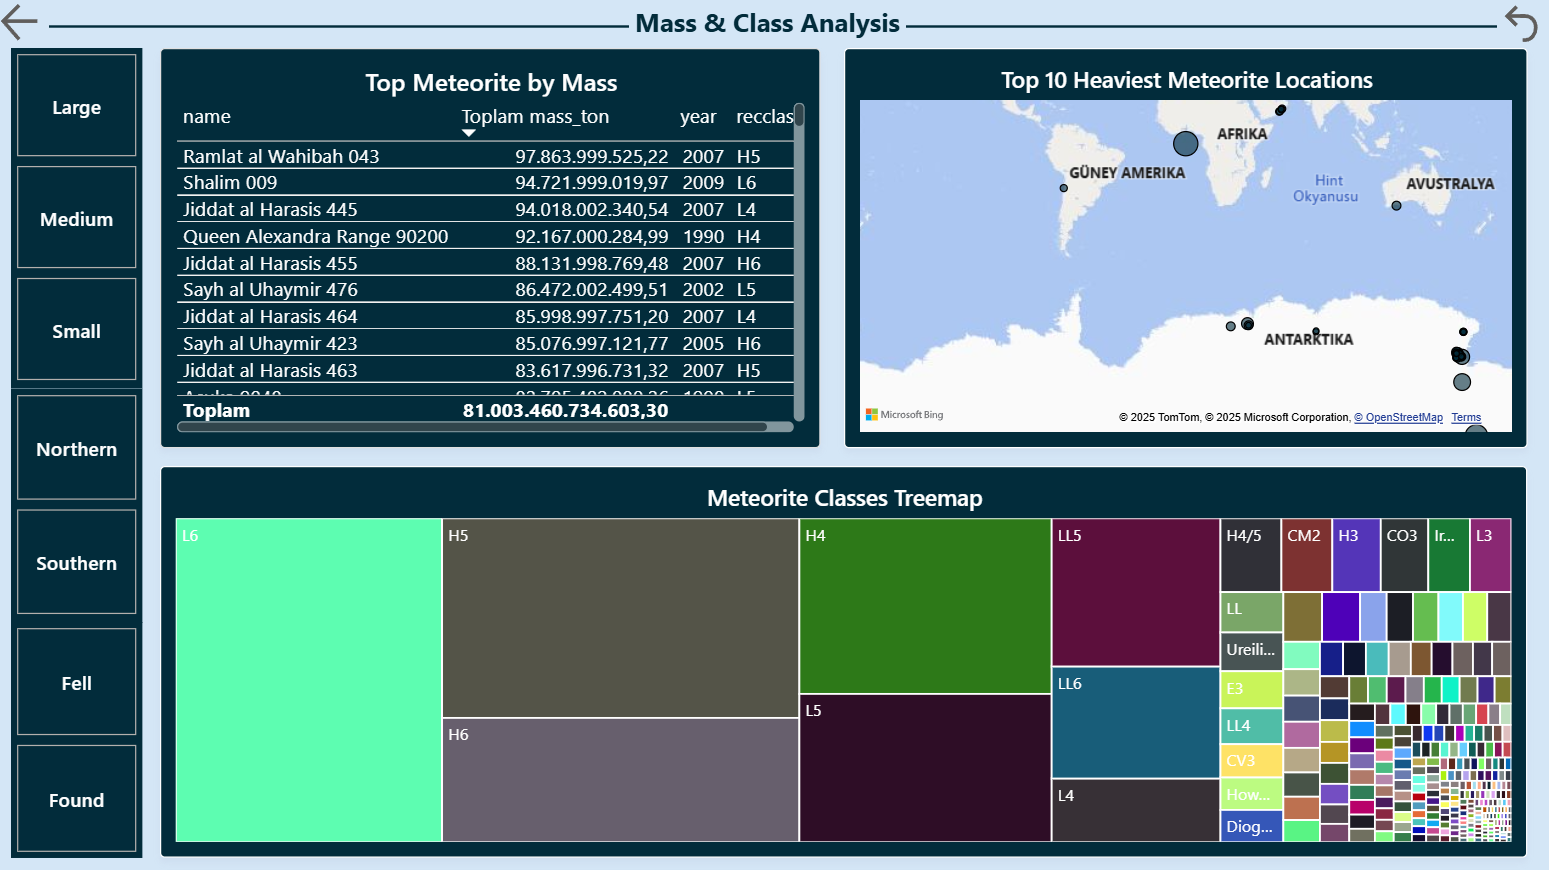

This screenshot's page, from the dashboard's own definition file:
{"tool":"powerbi","page":{"name":"Mass & Class Analysis","canvas":[1280,720],"ordinal":2},"visuals":[{"type":"treemap","title":"Meteorite Classes Treemap","fields":{"Details":["ClassTable.recclass"],"Values":["CountNonNull(ClassTable.id)"]},"box":[134.9,384.7,1123.9,322.2],"z":0},{"type":"map","title":"Top 10 Heaviest Meteorite Locations","fields":{"Y":["LocationTable.FixedLat"],"X":["LocationTable.FixedLong"],"Size":["Sum(MassTable.mass_ton)"]},"box":[696.9,41.3,562,328.9],"z":1000},{"type":"tableEx","title":"Top Meteorite by Mass","fields":{"Values":["MeteoriteTable.name","Sum(MassTable.mass_ton)","TimeTable.year","ClassTable.recclass"]},"box":[134.9,41.3,543,328.9],"z":2000},{"type":"advancedSlicerVisual","fields":{"Values":["MassTable.MassCategory"]},"box":[12.3,41.3,108.2,279.9],"z":3000},{"type":"advancedSlicerVisual","fields":{"Values":["LocationTable.Hemisphere"]},"box":[12.3,321.1,108.2,191.8],"z":4000},{"type":"advancedSlicerVisual","fields":{"Values":["FallTable.fall"]},"box":[12.3,512.9,108.2,194],"z":5000},{"type":"textbox","box":[520.7,0,238.6,39],"z":6000},{"type":"shape","box":[43.6,0,476.8,46.9],"z":7000},{"type":"shape","box":[748.1,0,485.9,46.9],"z":8000},{"type":"actionButton","box":[0,0,100,40],"z":9000},{"type":"actionButton","box":[1234,0.8,46,40.3],"z":10000}]}

Visuals, with their boxes in screenshot pixels (x1, y1, x2, y2), scaled from the page's 1280x720 canvas onto the 1549x870 screenshot:
"Meteorite Classes Treemap" treemap: 163,465,1523,854
"Top 10 Heaviest Meteorite Locations" map: 843,50,1523,447
"Top Meteorite by Mass" tableEx: 163,50,820,447
advancedSlicerVisual - MassTable.MassCategory: 15,50,146,388
advancedSlicerVisual - LocationTable.Hemisphere: 15,388,146,620
advancedSlicerVisual - FallTable.fall: 15,620,146,854
textbox: 630,0,919,47
shape: 53,0,630,57
shape: 905,0,1493,57
actionButton: 0,0,121,48
actionButton: 1493,1,1548,50
